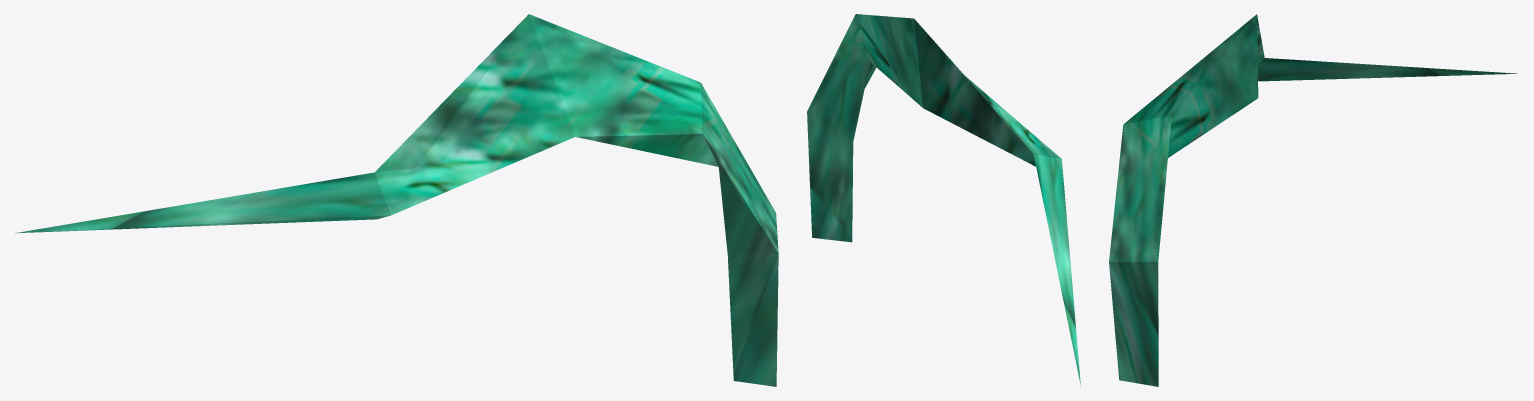
File: H1_BluePlant_Branch_6.gltf
3 views of the same model, side by side, from view 1: azimuth 30°, elevation 25°; view 2: azimuth 150°, elevation 25°; view 3: azimuth 270°, elevation 25° (orthographic). The views are drawn at different scales.
Visible parts, largest first — view 1: H1_BluePlant_Branch_6; view 2: H1_BluePlant_Branch_6; view 3: H1_BluePlant_Branch_6.
Part boxes in pixels (x1,y1,x2,y2): H1_BluePlant_Branch_6: (15,14,778,386); H1_BluePlant_Branch_6: (807,14,1080,385); H1_BluePlant_Branch_6: (1109,14,1517,386).
Bounding box in the file's own units: 5.74 × 3.54 × 4.43.
Materials: 1 (1 with a texture image).
